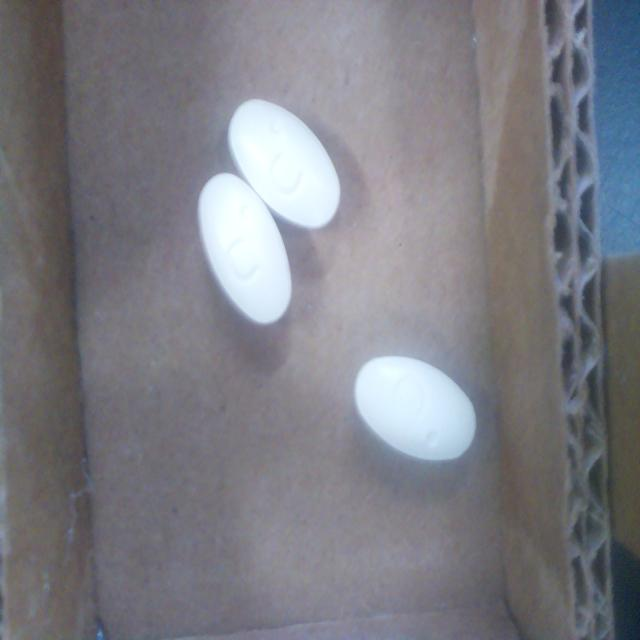pill: (228, 99, 340, 229), (198, 173, 292, 324), (354, 356, 476, 461)
